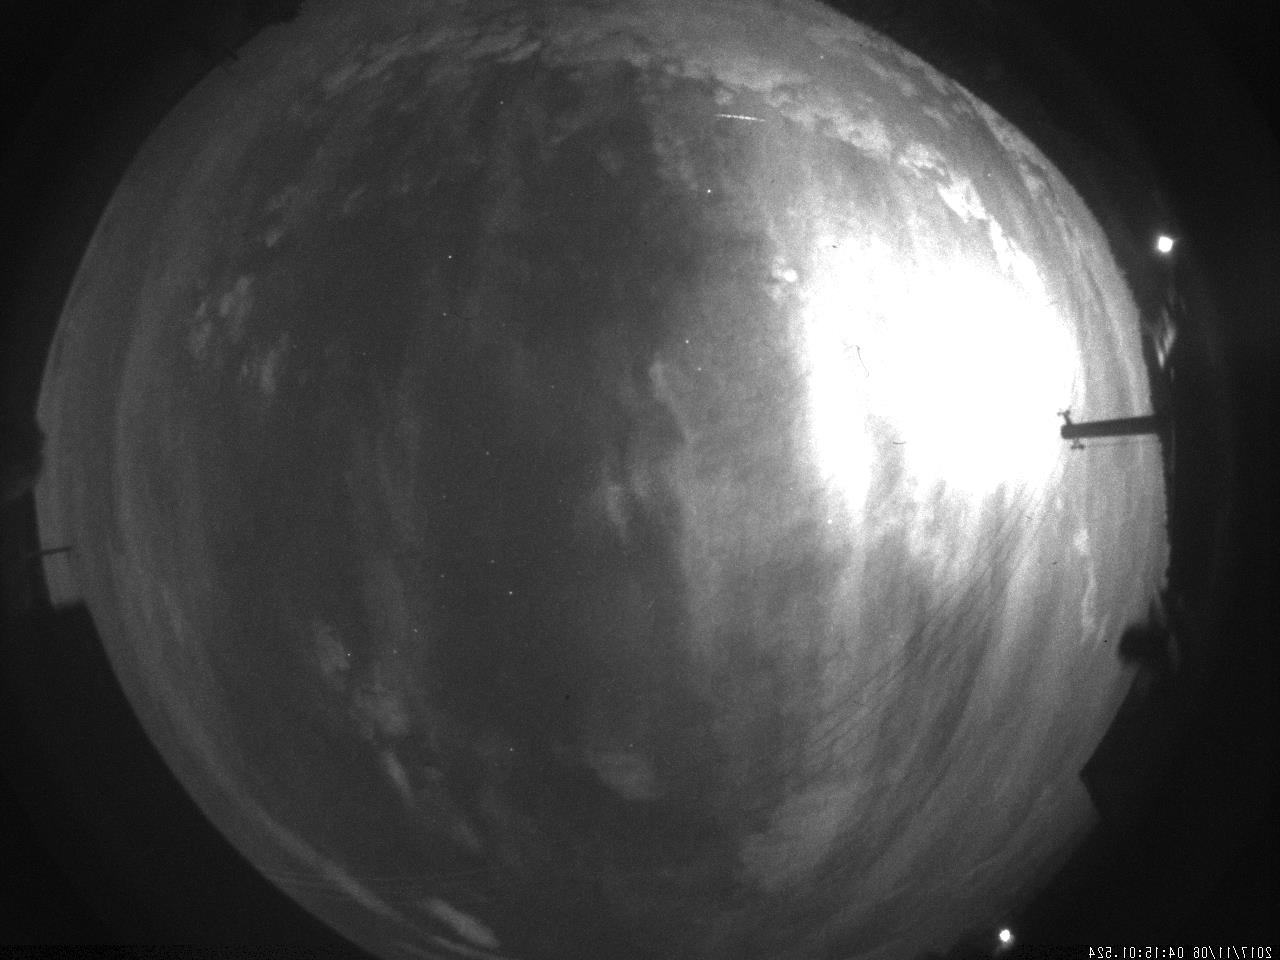meteor: (707, 103, 773, 136)
